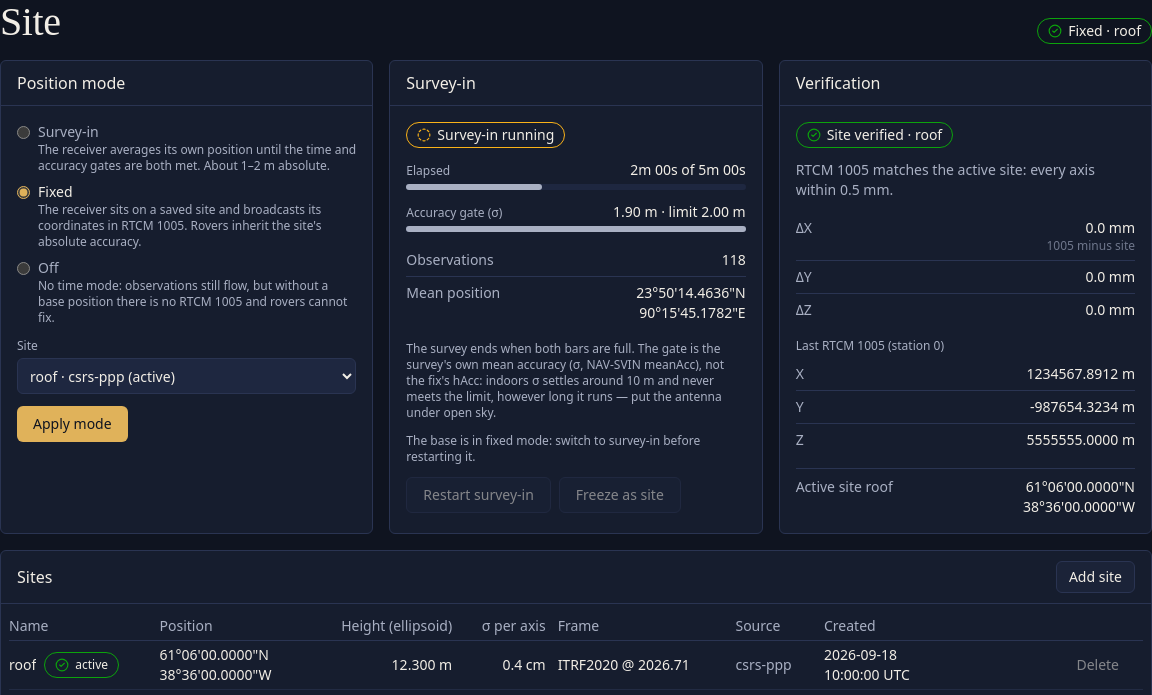
Test: Site page › refuses half a coordinate before it reaches the API
Click the button "Add site" at (1095,577), box [1056,561,1135,593]
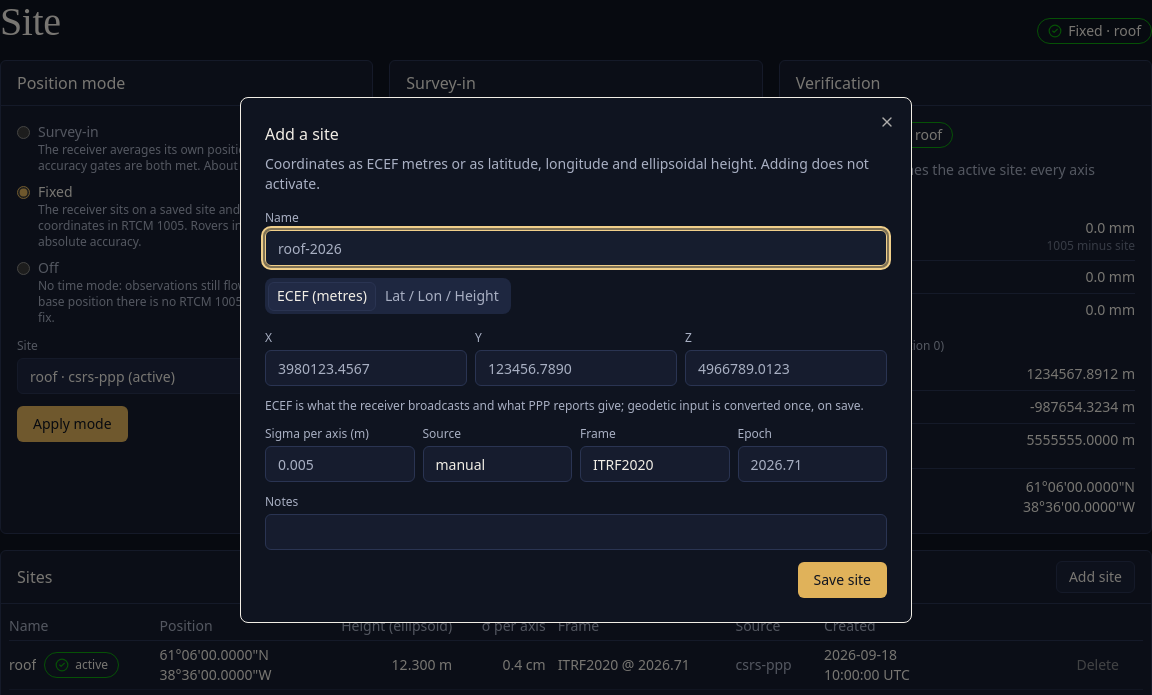
Type "half" into the field labelled "Name" at (576,248), box [265,230,887,266]
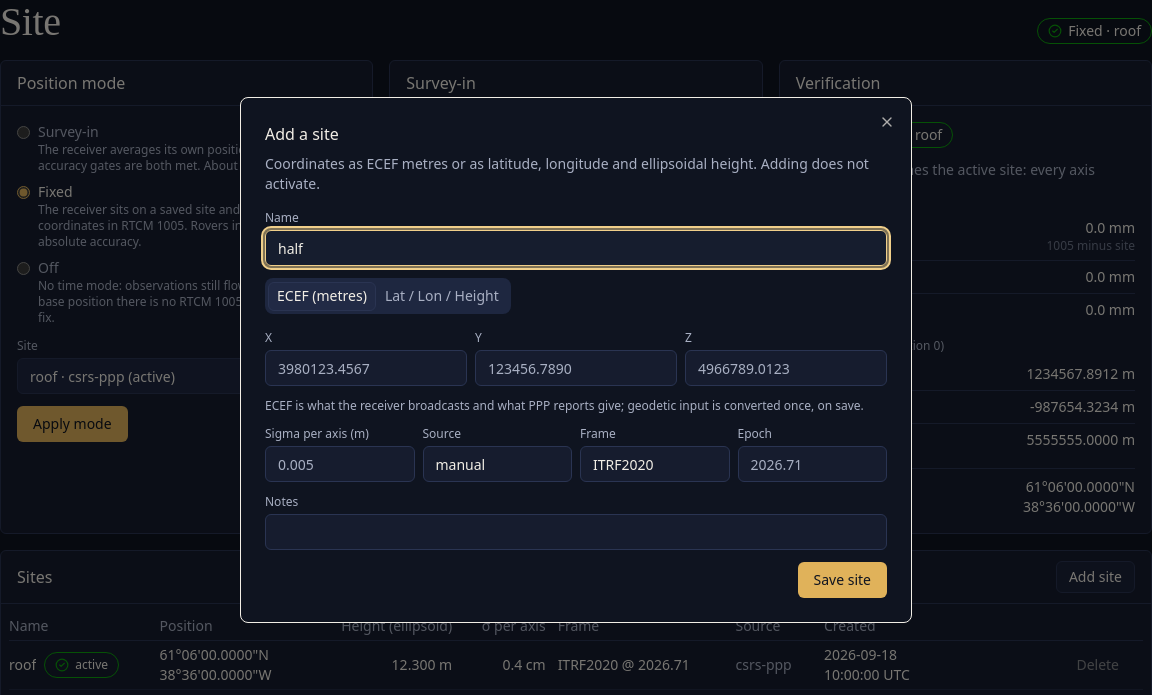
Type "1" into the field labelled "X" at (366,368), box [265,350,467,386]
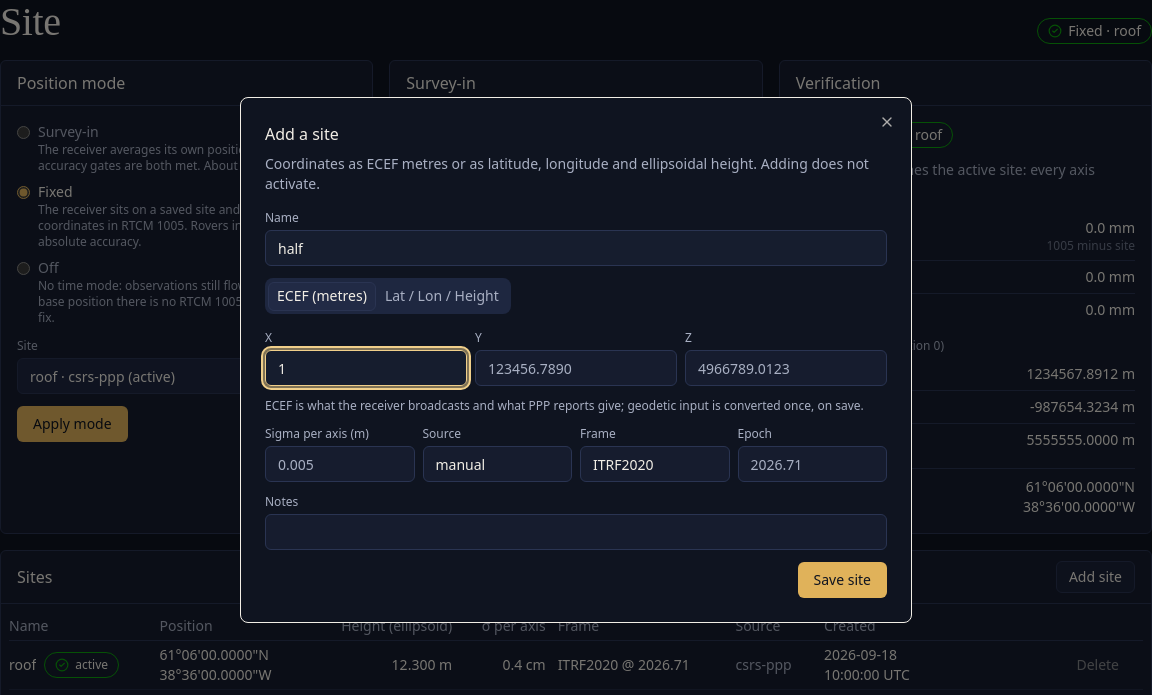
Click the button "Save site" at (842,580), box [798,562,887,598]
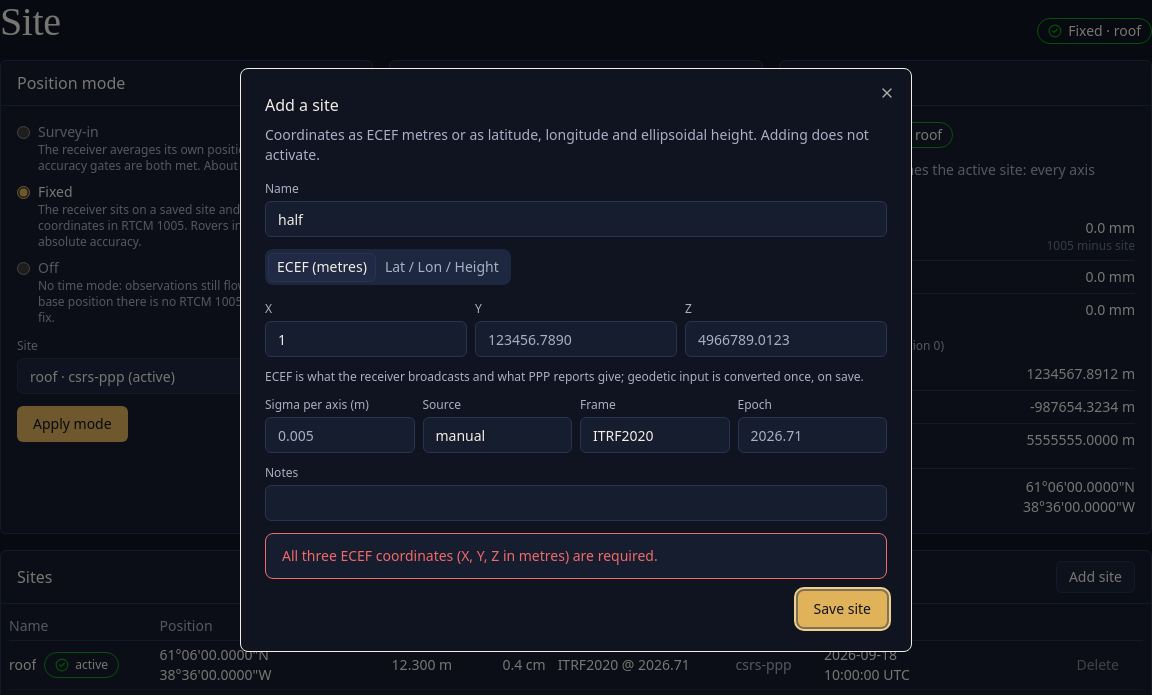
Result: the message shows "All three" at [282,546,658,565]
